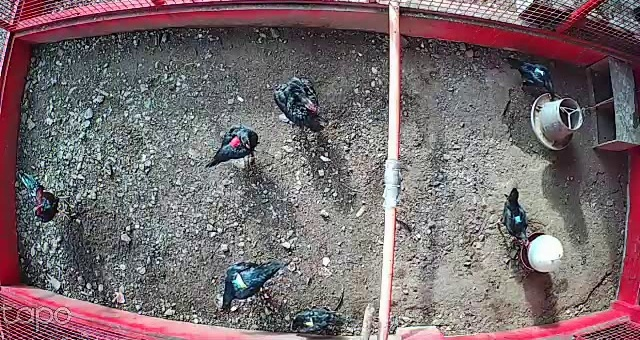Chicken: (217, 253, 288, 315), (269, 73, 329, 139), (482, 183, 532, 249), (206, 122, 265, 169), (502, 50, 555, 102), (285, 303, 341, 340)
Rooster: (15, 171, 76, 228)
Saddle_Color_Blue: (514, 215, 523, 223)
Saddle_Color_Red: (227, 136, 245, 149)
Saddle_Color_Yellow: (306, 315, 313, 327)
Saddle_Color_YellowGreen: (233, 272, 249, 290)
